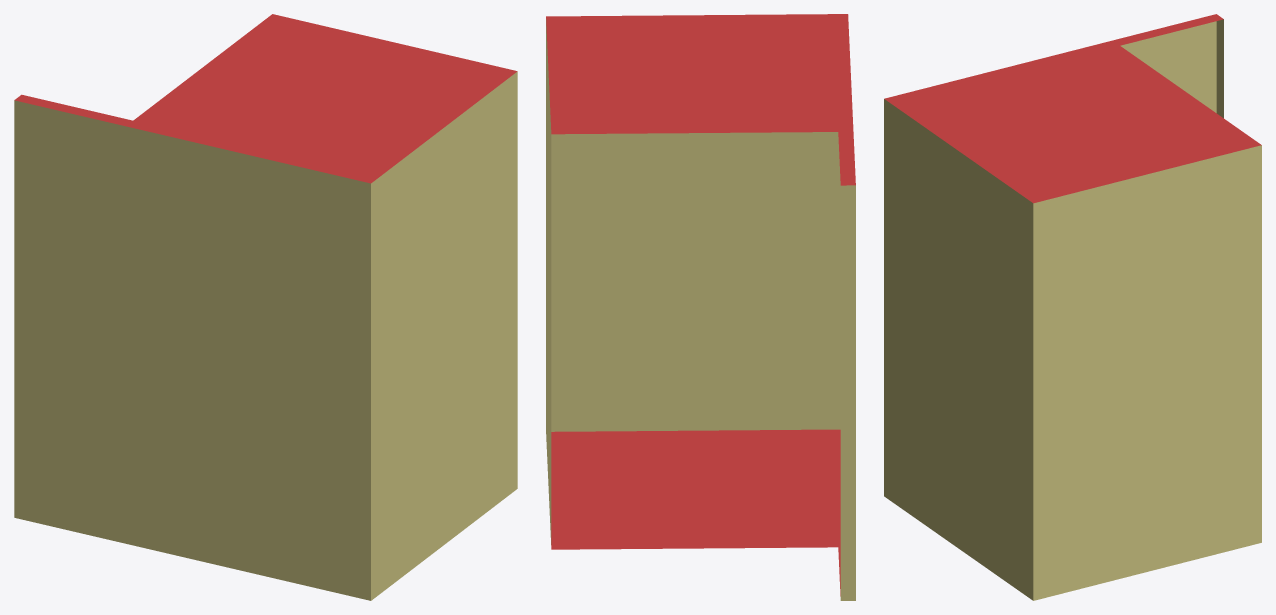
The picture shows the model from 3 angles, left to right: view 1: azimuth 30°, elevation 25°; view 2: azimuth 150°, elevation 25°; view 3: azimuth 270°, elevation 25°; orthographic projection. The views are drawn at different scales.
Bounding box in the file's own units: 7.09 × 5.98 × 6.94.
